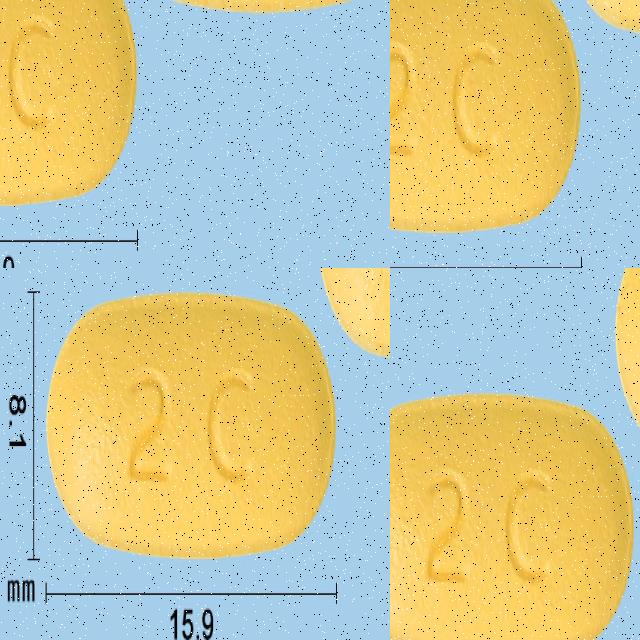Amocla Duo500mg: (23, 268, 390, 579)
Clathrocin: (0, 0, 138, 207)
Clithocin - 500mg: (390, 390, 634, 640)
Craycin: (390, 0, 595, 233)
